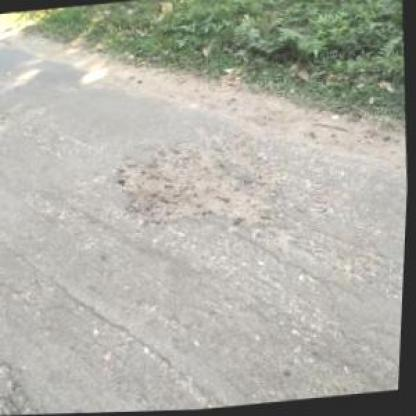pothole: (110, 133, 274, 240)
